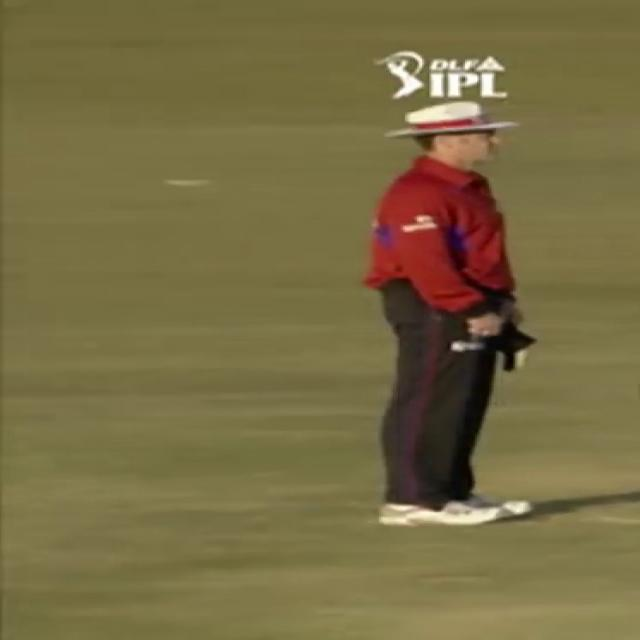No_Action: (331, 91, 563, 538)
